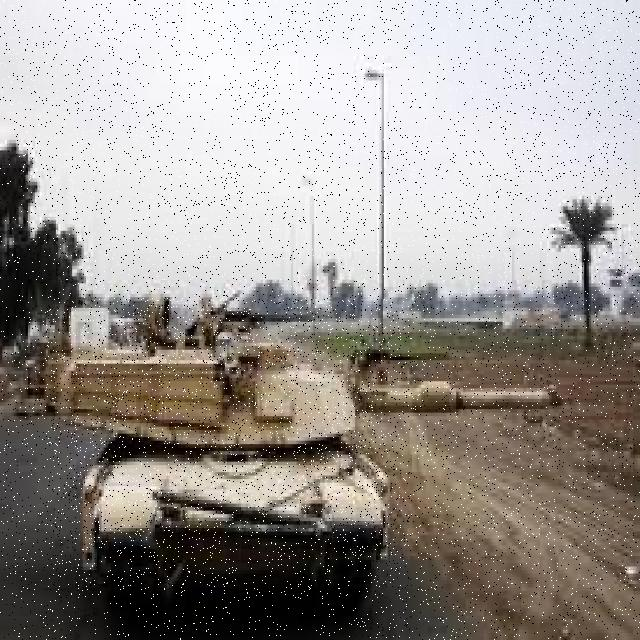MIL_MBT: (47, 299, 406, 596)
